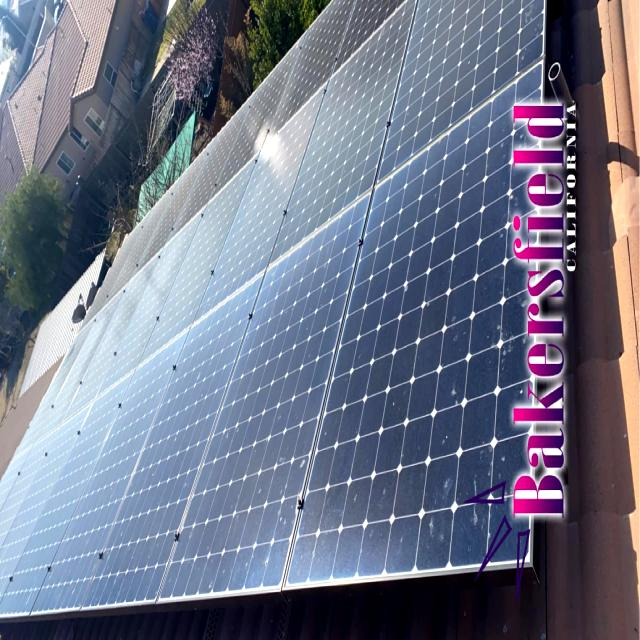dust: (366, 240, 504, 571), (258, 288, 332, 554), (178, 436, 240, 584)
